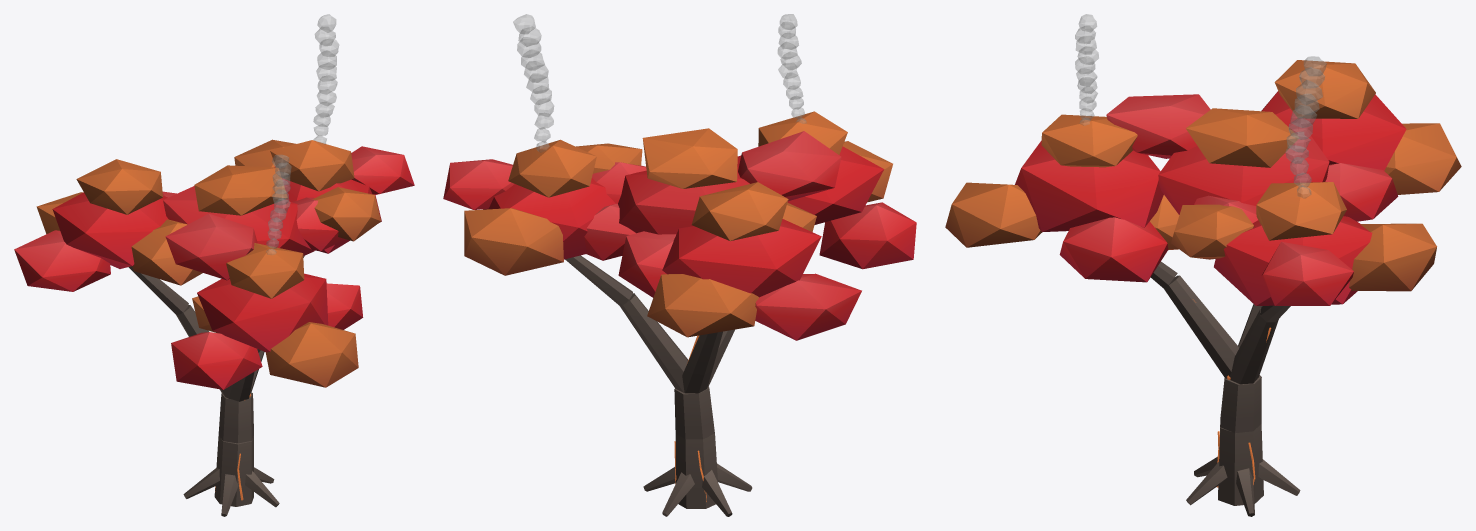
Rendered from smoldering_tree_b.glb.
3 renders of one model, left to right at view 1: azimuth 30°, elevation 25°; view 2: azimuth 150°, elevation 25°; view 3: azimuth 270°, elevation 25°, orthographic. The views are drawn at different scales.
Parts seen in each view (by area): view 1: smoldering_tree_b; view 2: smoldering_tree_b; view 3: smoldering_tree_b.
Boxes of the visible parts, left/top/right/bottom form: smoldering_tree_b: left=14, top=14, right=414, bottom=516; smoldering_tree_b: left=443, top=14, right=916, bottom=516; smoldering_tree_b: left=945, top=14, right=1461, bottom=516.
Size of the model in its own units: 9.37 by 10.49 by 9.63.
4 materials, 4 textured.
